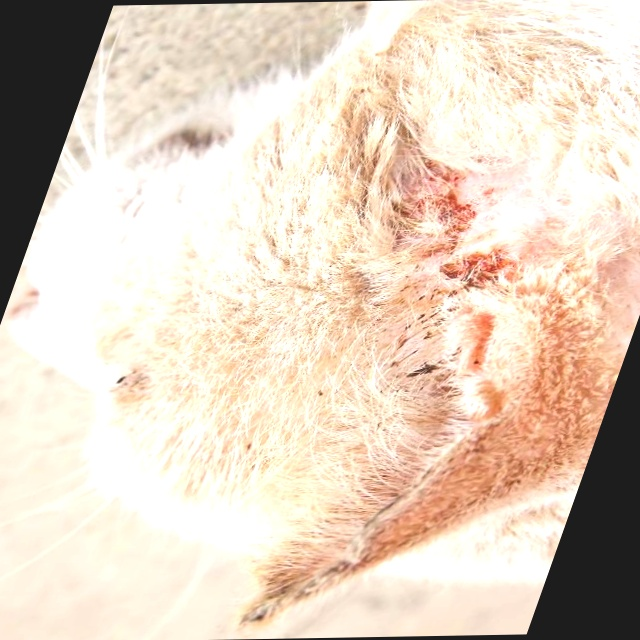ringworm: (334, 141, 559, 378)
